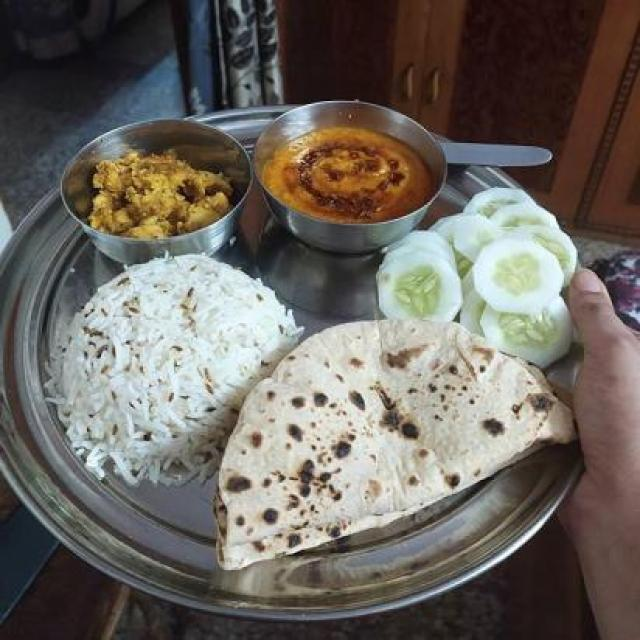Rice: (48, 253, 312, 472)
alooparatha-chapati: (226, 332, 568, 550)
